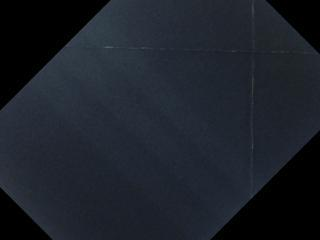crack: (62, 38, 319, 61), (244, 0, 260, 199)
